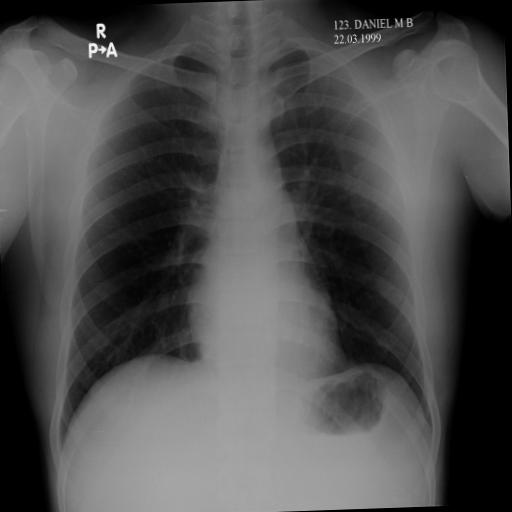normal: (34, 21, 442, 461)
